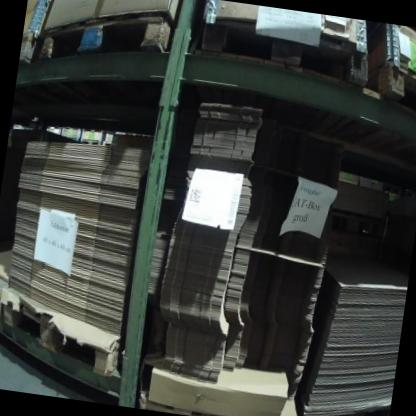pallet: (194, 12, 374, 88), (0, 288, 126, 380), (33, 0, 177, 79), (371, 52, 416, 114), (295, 393, 390, 416), (328, 211, 384, 237), (0, 273, 8, 319)
